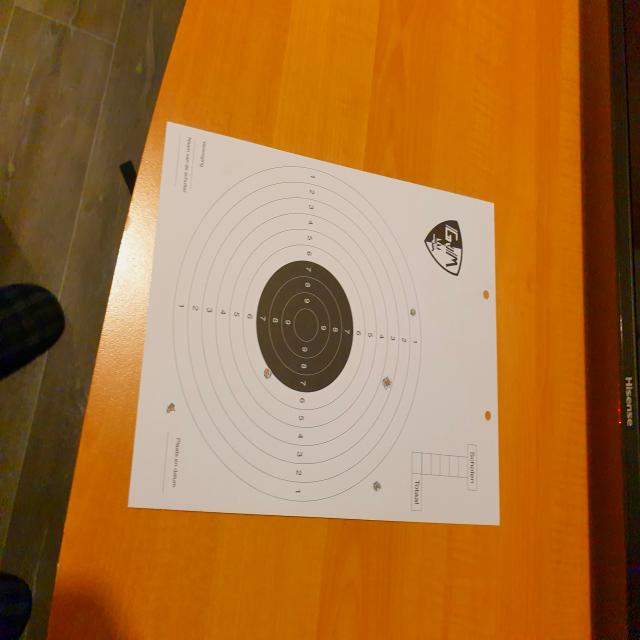0: (166, 401, 177, 416), (373, 480, 382, 493)
1: (409, 306, 417, 318)
3: (383, 376, 392, 389)
7: (262, 368, 272, 380)
Target: (172, 166, 422, 502)
black_contour: (256, 261, 354, 393)
